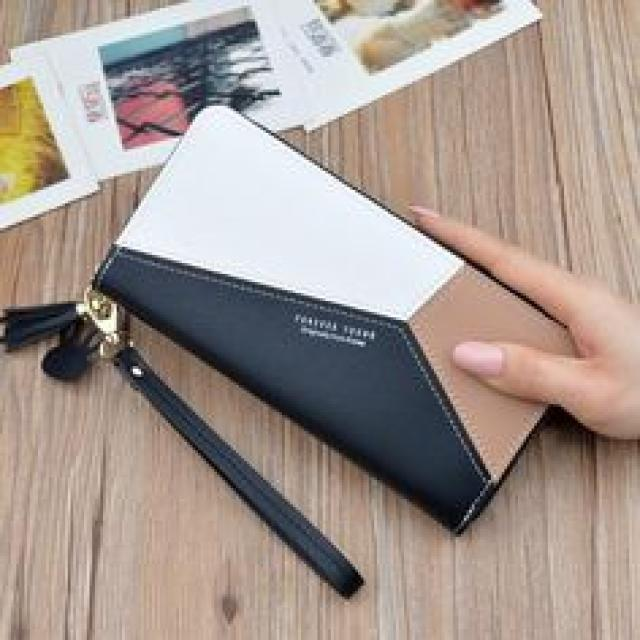Handbag: (104, 92, 577, 528)
